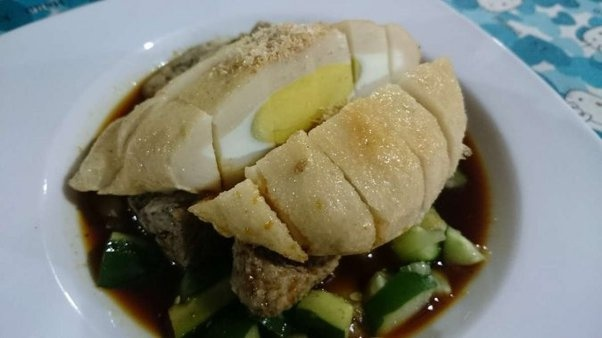pempek: (67, 21, 468, 315)
